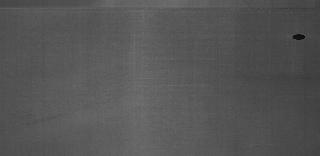punching hole: (290, 32, 308, 42)
welding line: (3, 4, 317, 14)
